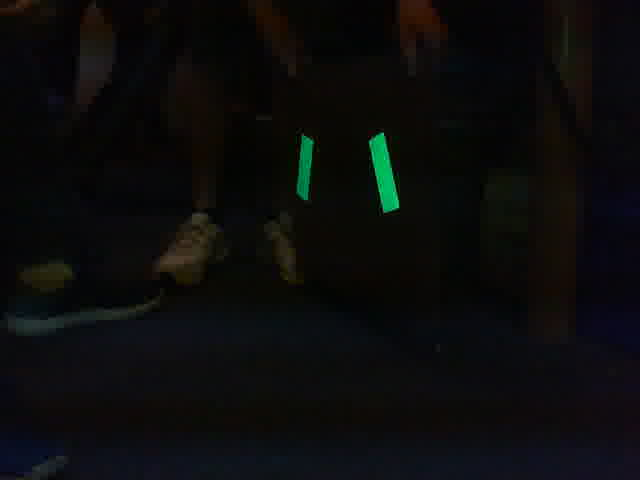target: (296, 133, 399, 212)
